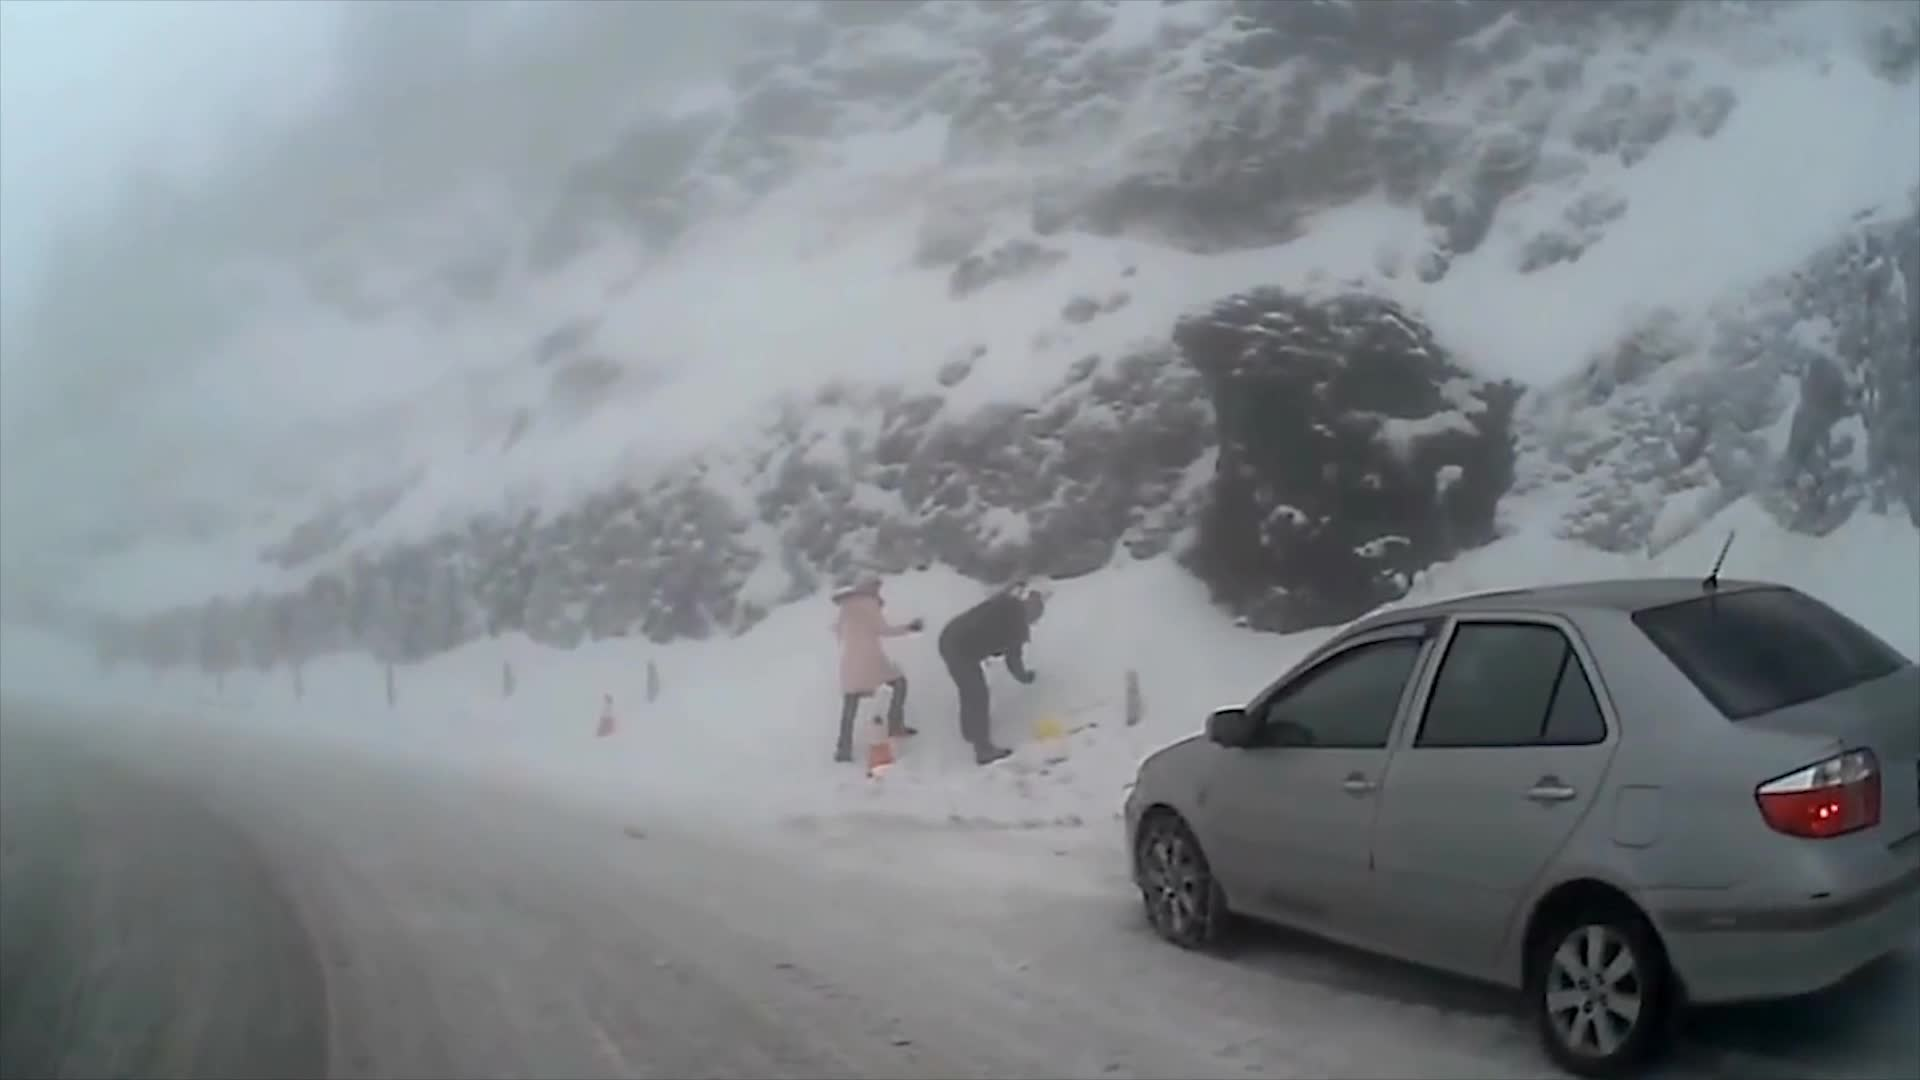pedestrian: (822, 567, 926, 762), (940, 586, 1047, 768)
vehicle: (1122, 577, 1920, 1080)
